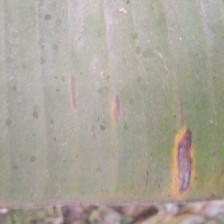sigatoka: (0, 0, 224, 204)
